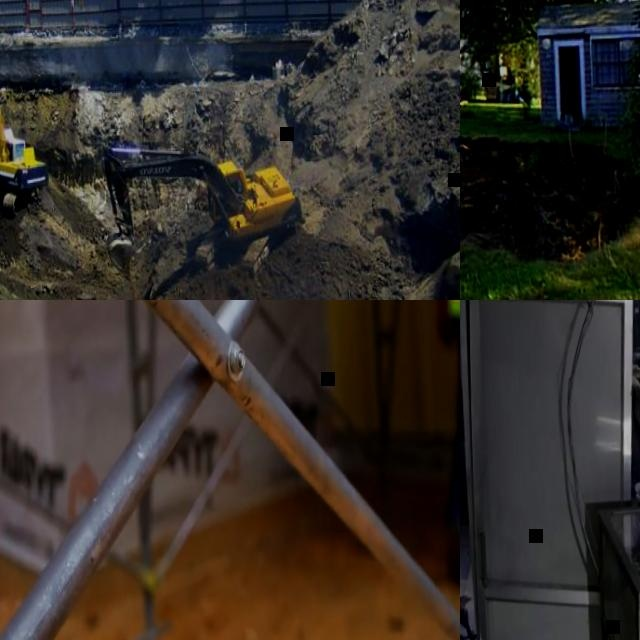Person: (424, 300, 460, 588)
machinery: (101, 134, 301, 281), (0, 44, 50, 218)
